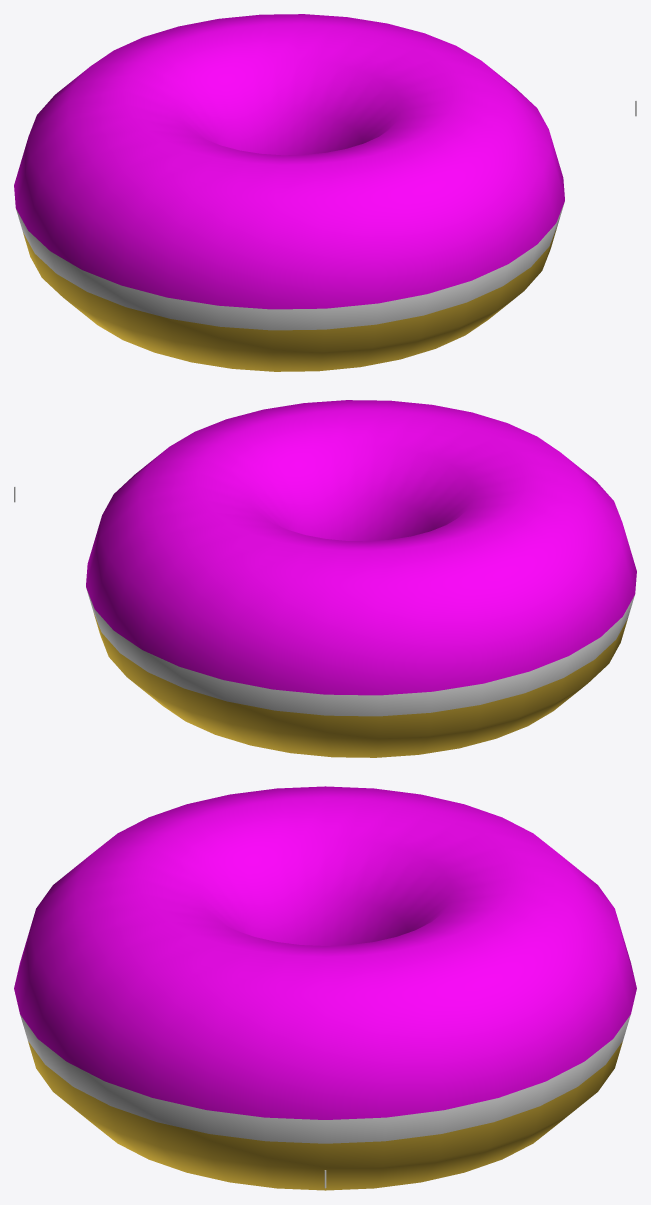
File: Donut_LP.fbx
The picture shows the model from 3 angles, top to bottom: view 1: azimuth 30°, elevation 25°; view 2: azimuth 150°, elevation 25°; view 3: azimuth 270°, elevation 25°; orthographic projection. The views are drawn at different scales.
Visible parts, largest first — view 1: Donut; view 2: Donut; view 3: Donut.
Part boxes in pixels (x1,y1,x2,y2): Donut: (14,14,564,371); Donut: (86,400,636,757); Donut: (14,786,636,1190).
Size of the model in its own units: 80.93 by 26 by 66.
